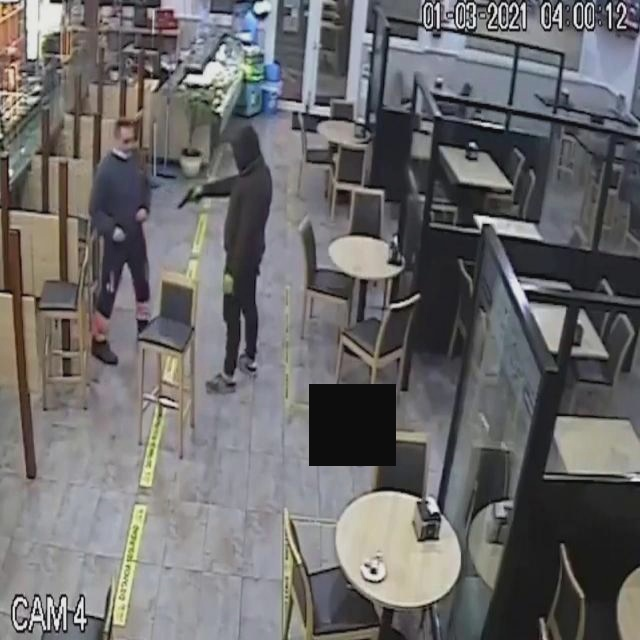gun: (172, 177, 209, 222)
